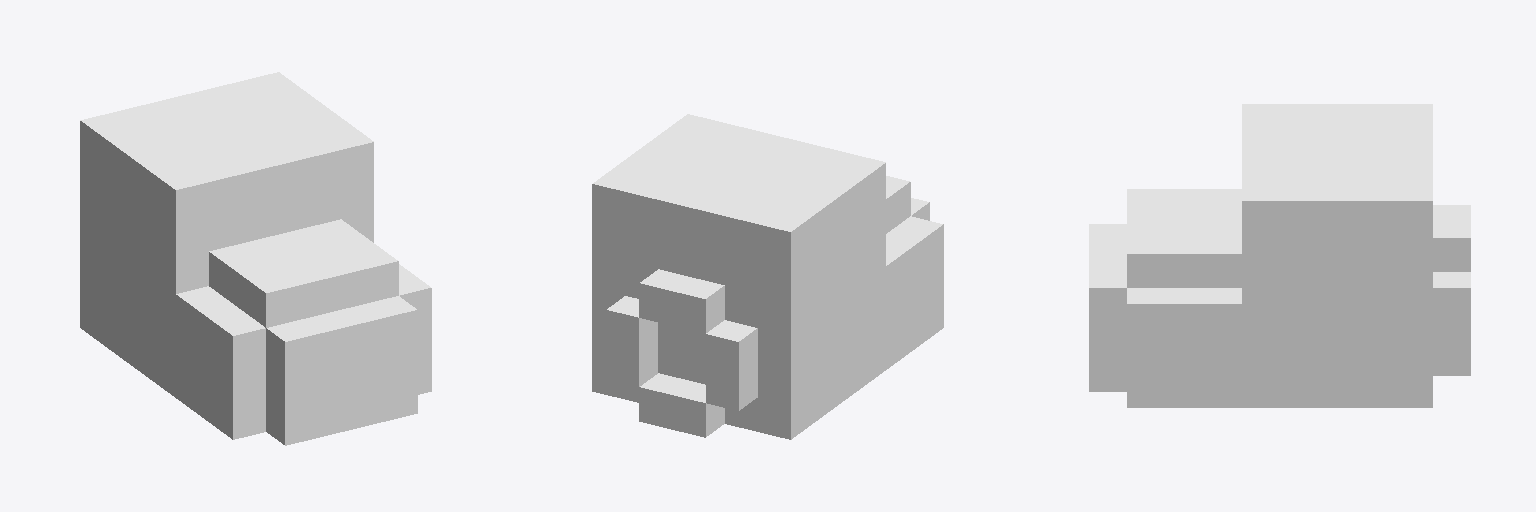
The model's file is rocket_shoe.obj.
3 renders of one model, left to right at view 1: azimuth 30°, elevation 25°; view 2: azimuth 150°, elevation 25°; view 3: azimuth 270°, elevation 25°, orthographic.
Visible parts, largest first — view 1: object 1; view 2: object 1; view 3: object 1.
Boxes of the visible parts, x1,y1,x2,y2 form: object 1: [80, 72, 431, 445]; object 1: [592, 114, 943, 439]; object 1: [1089, 104, 1470, 407].
Bounding box in the file's own units: 0.6 × 0.6 × 1.